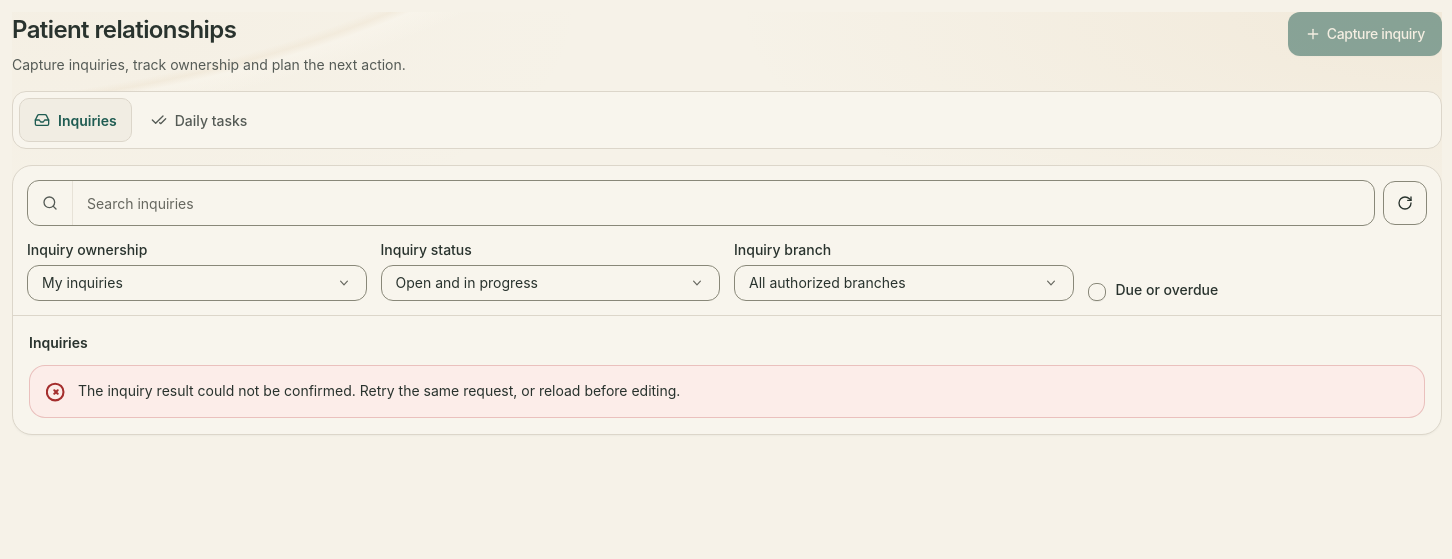
Test: Inquiry workspace › distinguishes a failed list from an empty queue and reloads the same filters
The image size is (1452, 559).
expect the text "The inquiry result could not be confirmed" is shown: met, box [78, 382, 680, 399]
Click the button named "Reload inquiries" at (1405, 203), box [1383, 181, 1427, 225]
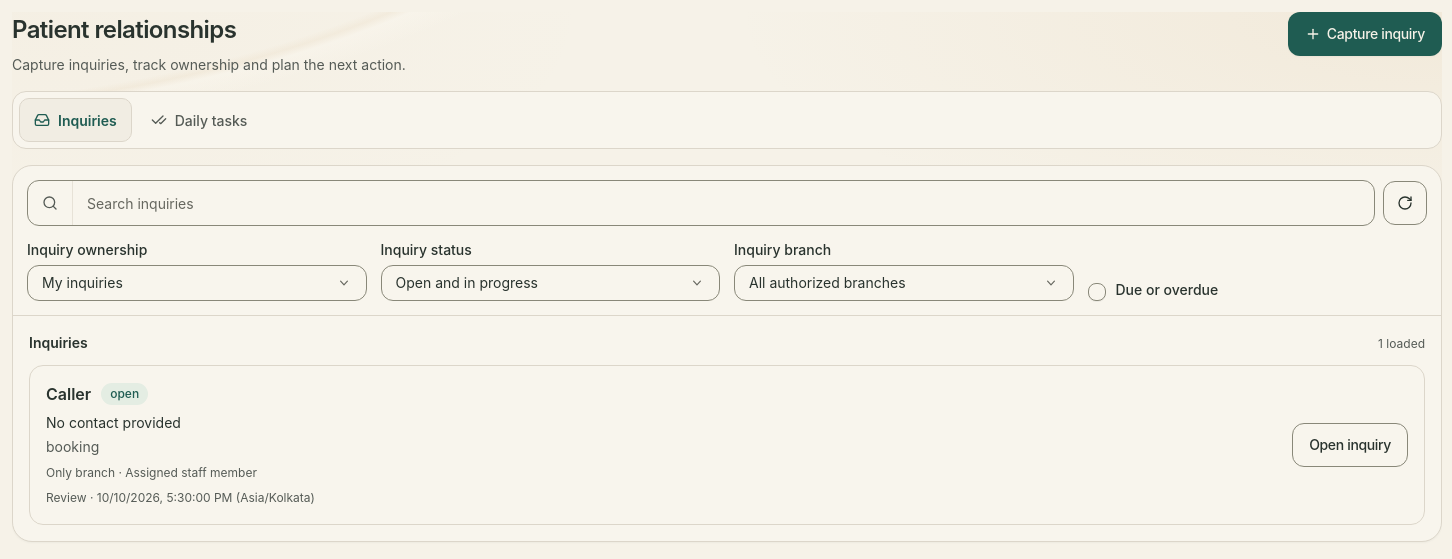
expect the button "Open inquiry" is shown: met, box [1292, 423, 1408, 467]
